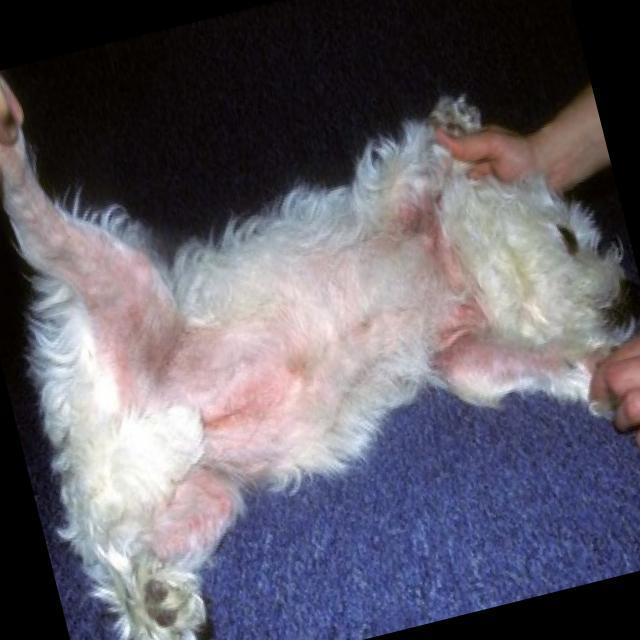allergic dermatitis: (94, 256, 160, 428), (184, 337, 293, 432), (411, 244, 483, 369), (392, 179, 448, 313), (148, 461, 224, 555), (48, 226, 130, 293), (468, 335, 590, 373)
